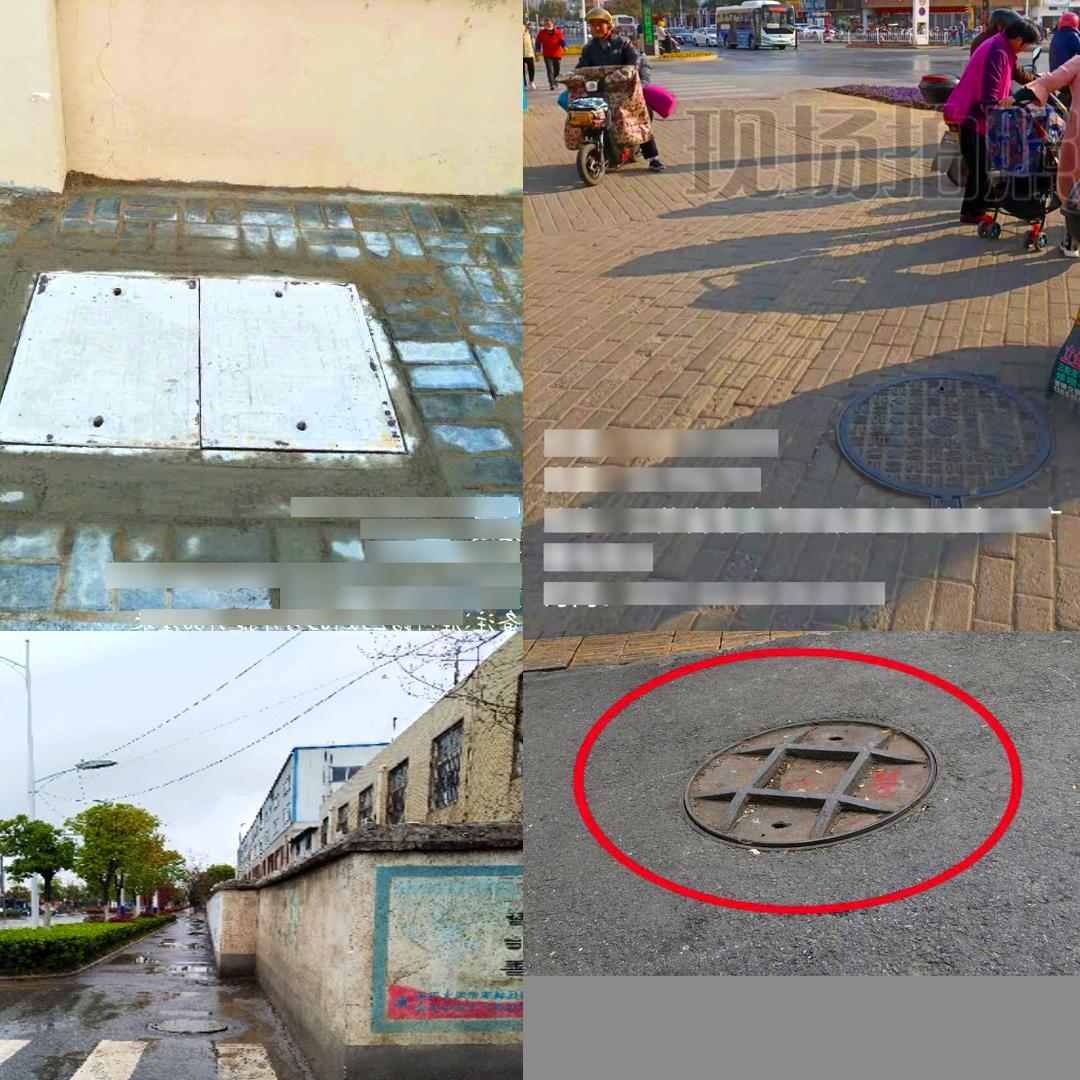good: (0, 270, 422, 460), (671, 710, 950, 856), (835, 369, 1053, 502), (124, 1007, 242, 1041)
